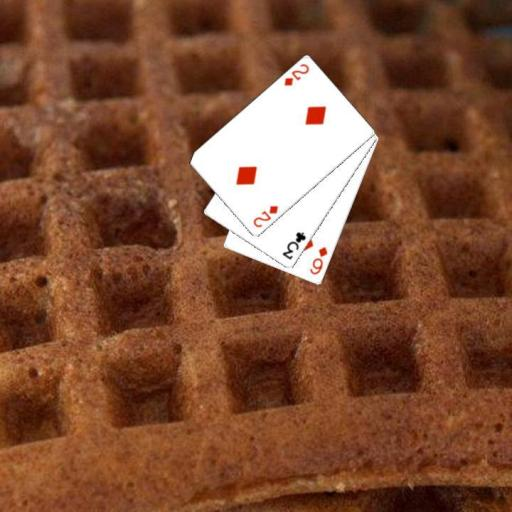2D: (281, 61, 311, 88), (250, 203, 280, 229)
3C: (279, 229, 308, 262)
6D: (307, 244, 330, 277)
